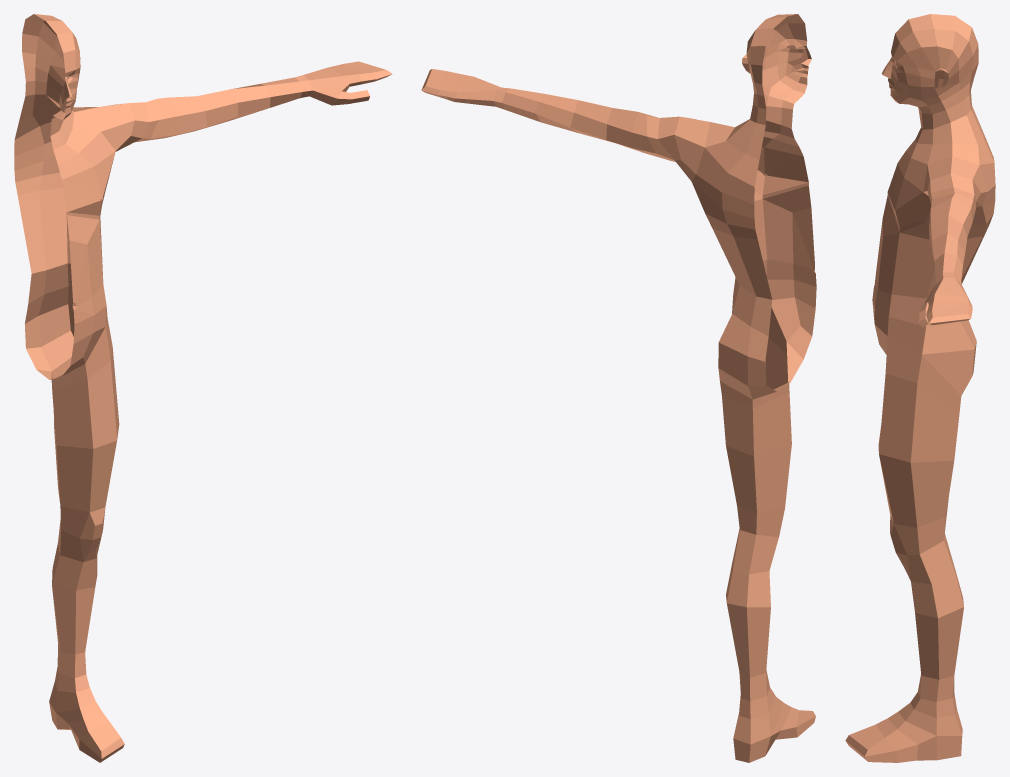
The model's file is human_male.obj.
The picture shows the model from 3 angles, left to right: view 1: azimuth 30°, elevation 25°; view 2: azimuth 150°, elevation 25°; view 3: azimuth 270°, elevation 25°; orthographic projection. The views are drawn at different scales.
Parts seen in each view (by area): view 1: 1.torso, 3.legs, 0.head, 4.feet, 2.hands; view 2: 1.torso, 3.legs, 0.head, 4.feet, 2.hands; view 3: 3.legs, 1.torso, 0.head, 4.feet, 2.hands.
Boxes of the visible parts, x1,y1,x2,y2 form: 1.torso: [14, 75, 312, 323]; 3.legs: [24, 286, 119, 677]; 0.head: [22, 14, 80, 135]; 4.feet: [49, 666, 124, 762]; 2.hands: [304, 61, 392, 105]; 1.torso: [493, 87, 816, 335]; 3.legs: [718, 279, 816, 701]; 0.head: [742, 14, 811, 128]; 4.feet: [733, 687, 815, 762]; 2.hands: [421, 69, 501, 106]; 3.legs: [872, 300, 976, 702]; 1.torso: [872, 106, 995, 327]; 0.head: [881, 14, 978, 129]; 4.feet: [845, 692, 962, 762]; 2.hands: [919, 277, 972, 327].
Bounding box in the file's own units: 8.78 × 17.34 × 3.26.
